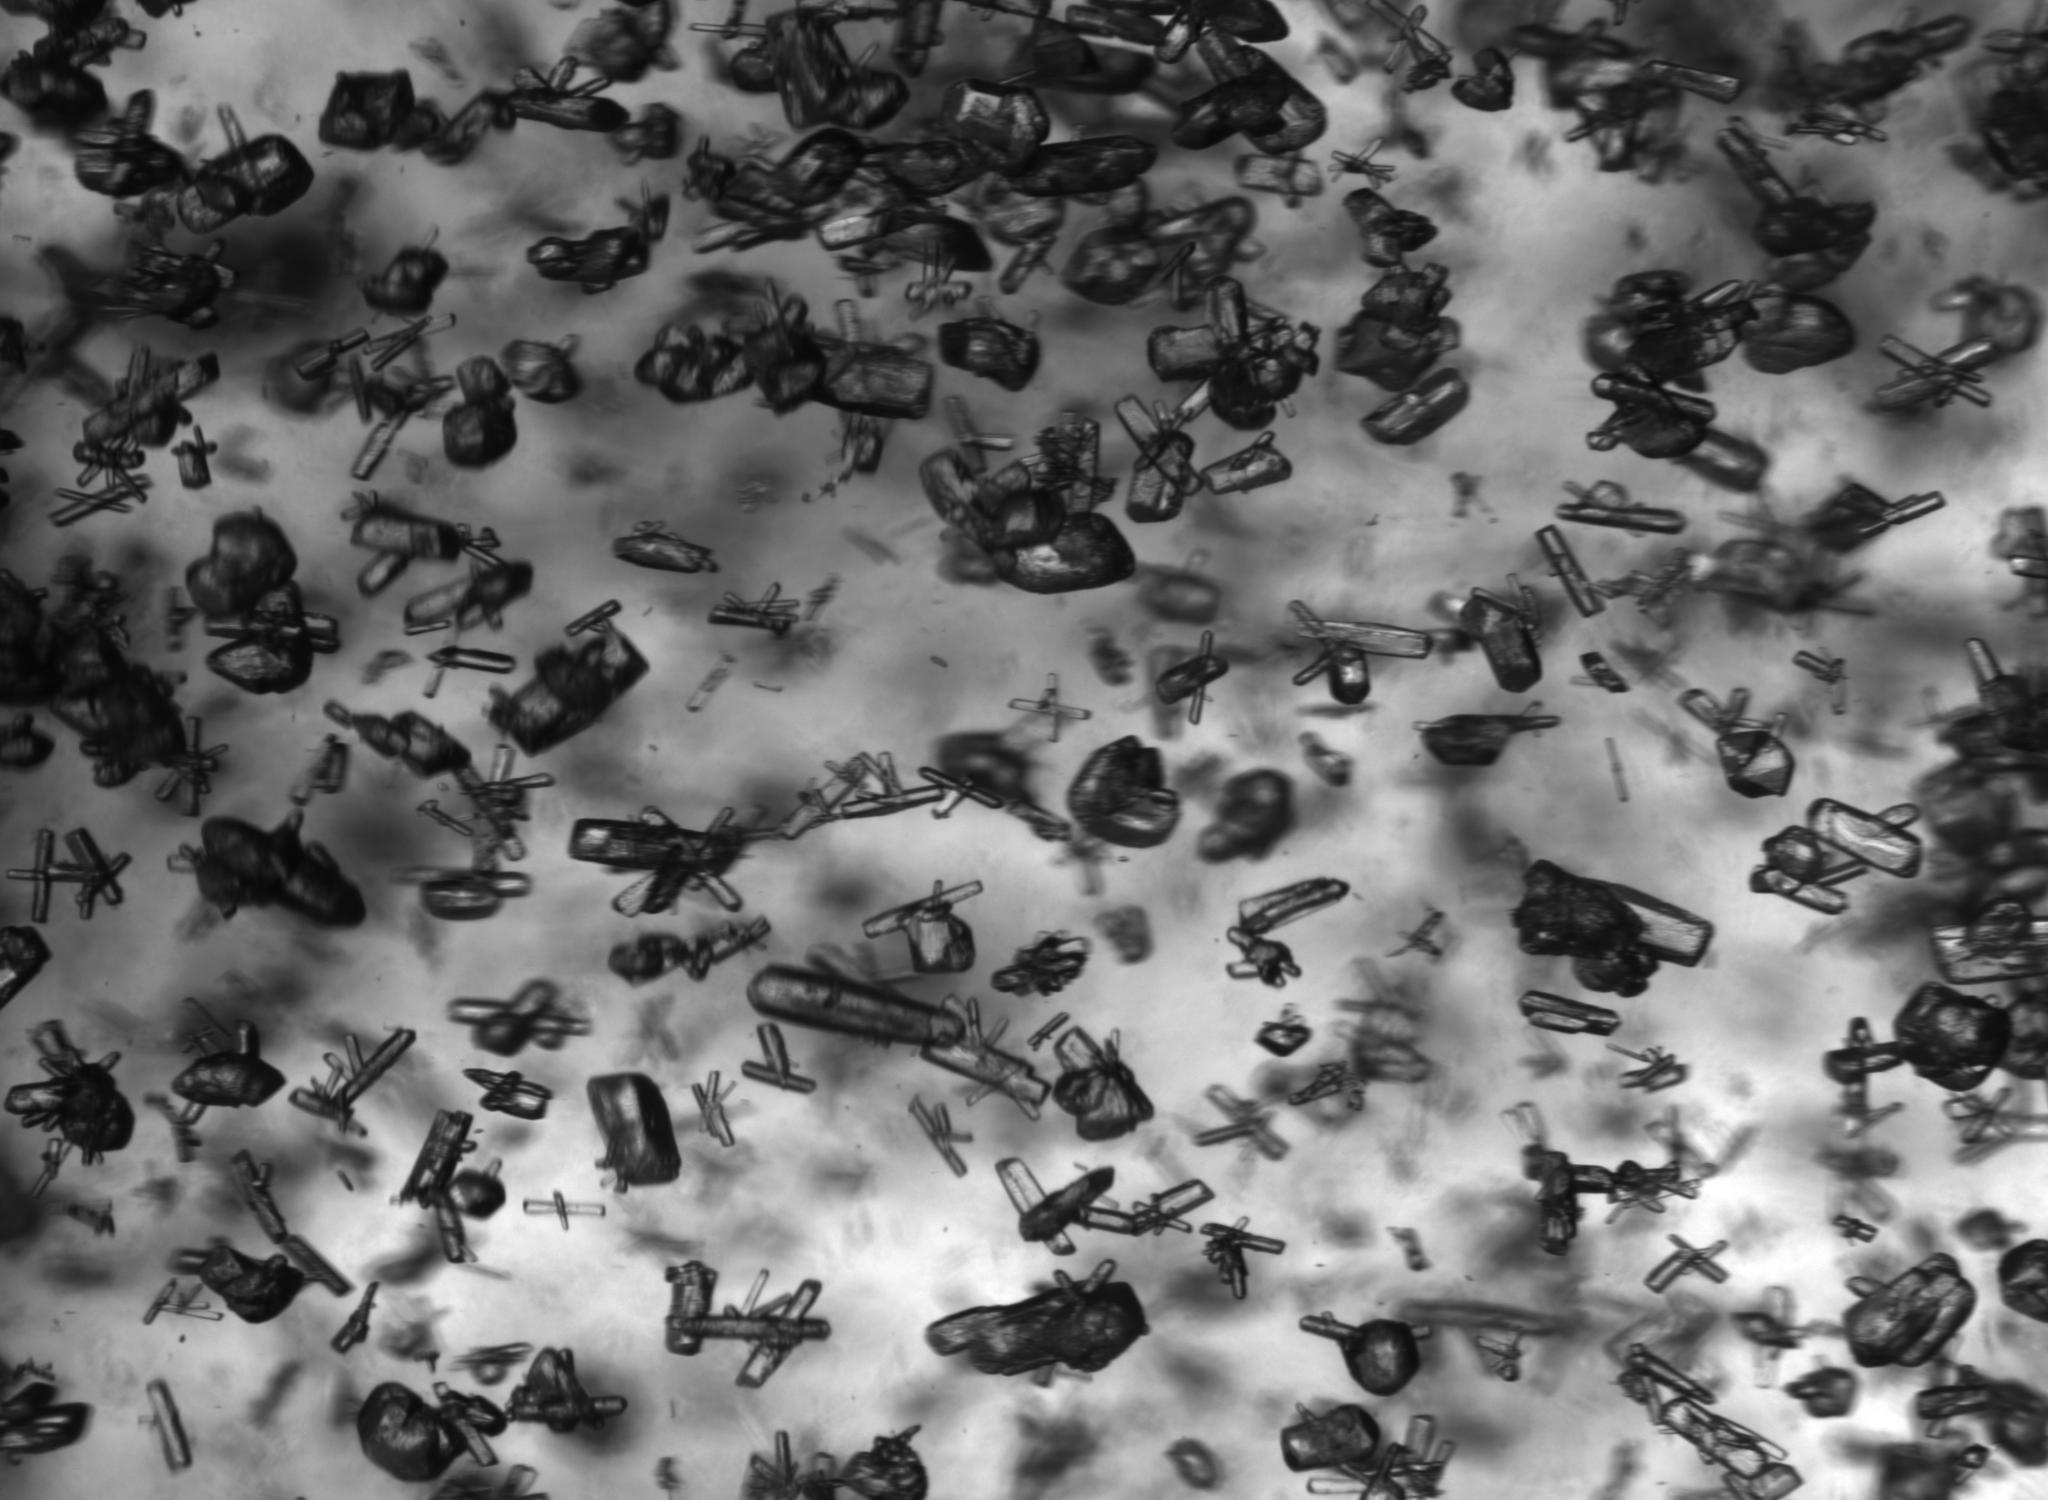crystal: (636, 278, 932, 480), (919, 396, 1135, 593), (1507, 22, 1741, 172), (690, 0, 943, 130), (1617, 1344, 1802, 1500), (184, 511, 337, 694), (1512, 861, 1711, 996), (1719, 119, 1876, 290), (1146, 280, 1318, 431), (925, 1260, 1146, 1376), (488, 600, 649, 756), (1870, 277, 2042, 414), (1062, 196, 1256, 307), (51, 630, 188, 787), (690, 127, 867, 248), (994, 1156, 1213, 1253), (665, 1261, 830, 1387), (73, 348, 219, 490), (1172, 25, 1326, 157), (1752, 799, 1926, 915), (1523, 1142, 1700, 1255), (774, 751, 1002, 838), (569, 810, 754, 915), (189, 818, 364, 926), (1588, 270, 1755, 383), (746, 964, 965, 1048), (6, 1021, 134, 1163), (173, 107, 313, 234), (814, 183, 992, 282), (234, 1152, 355, 1296), (1940, 639, 2048, 800), (396, 1110, 504, 1263), (919, 996, 1049, 1120), (1282, 1405, 1449, 1500), (347, 492, 499, 595), (1337, 262, 1458, 390), (1843, 1253, 1976, 1368), (356, 1382, 507, 1483), (81, 239, 234, 329), (1293, 608, 1433, 706), (743, 1427, 927, 1500), (1827, 14, 1970, 108), (528, 197, 668, 293), (1228, 878, 1348, 988), (1894, 981, 2011, 1091), (67, 91, 186, 199), (289, 1029, 415, 1129), (1679, 689, 1795, 797), (1067, 736, 1178, 848), (452, 743, 553, 861), (8, 829, 132, 923), (1053, 1024, 1153, 1141), (1299, 1312, 1433, 1397), (862, 881, 981, 973), (587, 1074, 681, 1190), (323, 703, 471, 776), (1587, 374, 1712, 460), (607, 916, 768, 983), (1738, 285, 1856, 375), (1115, 396, 1199, 522), (402, 554, 533, 635), (450, 980, 588, 1056), (176, 1241, 304, 1323), (491, 57, 630, 132), (507, 1347, 626, 1433), (1453, 576, 1541, 692), (1930, 899, 2048, 985), (172, 1021, 286, 1109), (1806, 482, 1945, 552), (1007, 135, 1156, 197), (0, 1358, 91, 1457), (564, 0, 674, 81), (1361, 364, 1469, 445), (0, 52, 108, 134), (442, 356, 517, 469), (949, 83, 1051, 162), (1364, 0, 1452, 92), (29, 0, 145, 68), (938, 315, 1040, 391), (417, 89, 517, 165), (870, 129, 981, 197), (1344, 188, 1437, 269), (1418, 713, 1558, 767), (318, 72, 415, 150), (1555, 479, 1685, 534), (1824, 1016, 1905, 1106), (154, 717, 227, 816), (1154, 630, 1229, 725), (1534, 525, 1603, 617), (1200, 1223, 1285, 1298), (991, 934, 1088, 996), (361, 247, 448, 315), (1197, 434, 1293, 495), (418, 869, 528, 919), (741, 1021, 816, 1094), (612, 522, 716, 573), (367, 313, 456, 372), (499, 337, 579, 402), (49, 474, 148, 527), (908, 1096, 972, 1177), (1644, 1233, 1728, 1293), (708, 584, 801, 638), (1235, 153, 1323, 208), (1007, 686, 1091, 743), (289, 733, 351, 806), (1520, 991, 1620, 1036), (350, 412, 415, 480), (466, 1069, 552, 1120), (286, 329, 372, 380), (146, 1379, 192, 1471), (1997, 1239, 2048, 1322), (905, 253, 973, 313), (143, 1276, 224, 1325), (1452, 48, 1514, 111), (997, 231, 1057, 294), (1784, 108, 1884, 145), (331, 1282, 382, 1354), (1286, 1059, 1361, 1107), (522, 1190, 606, 1230), (690, 1071, 735, 1145), (1329, 137, 1396, 185), (170, 423, 218, 490), (1914, 1381, 1989, 1422), (1620, 1047, 1687, 1091), (685, 654, 736, 711), (1256, 1007, 1312, 1058), (1468, 1331, 1523, 1381), (426, 644, 517, 674), (30, 1136, 70, 1196), (1574, 651, 1630, 694), (417, 799, 472, 841), (1792, 649, 1844, 686), (1603, 736, 1630, 802), (1027, 1012, 1069, 1051), (1832, 1214, 1878, 1244), (2008, 555, 2048, 581), (1957, 1444, 1989, 1471)
